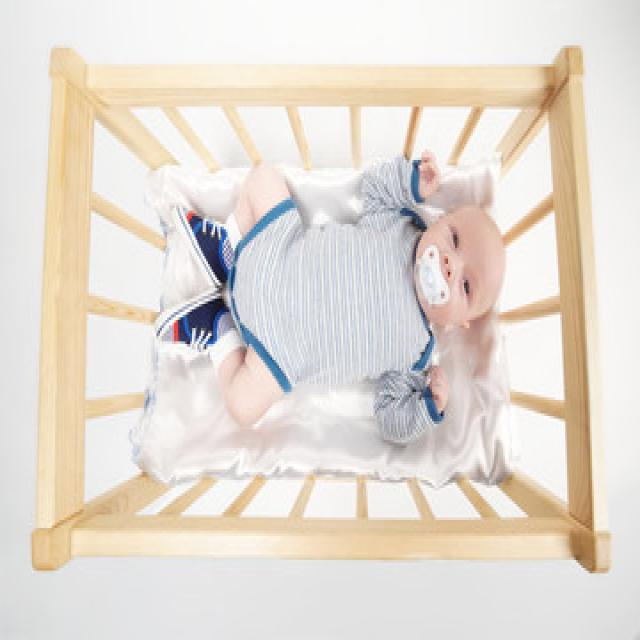crib: (60, 66, 577, 555)
